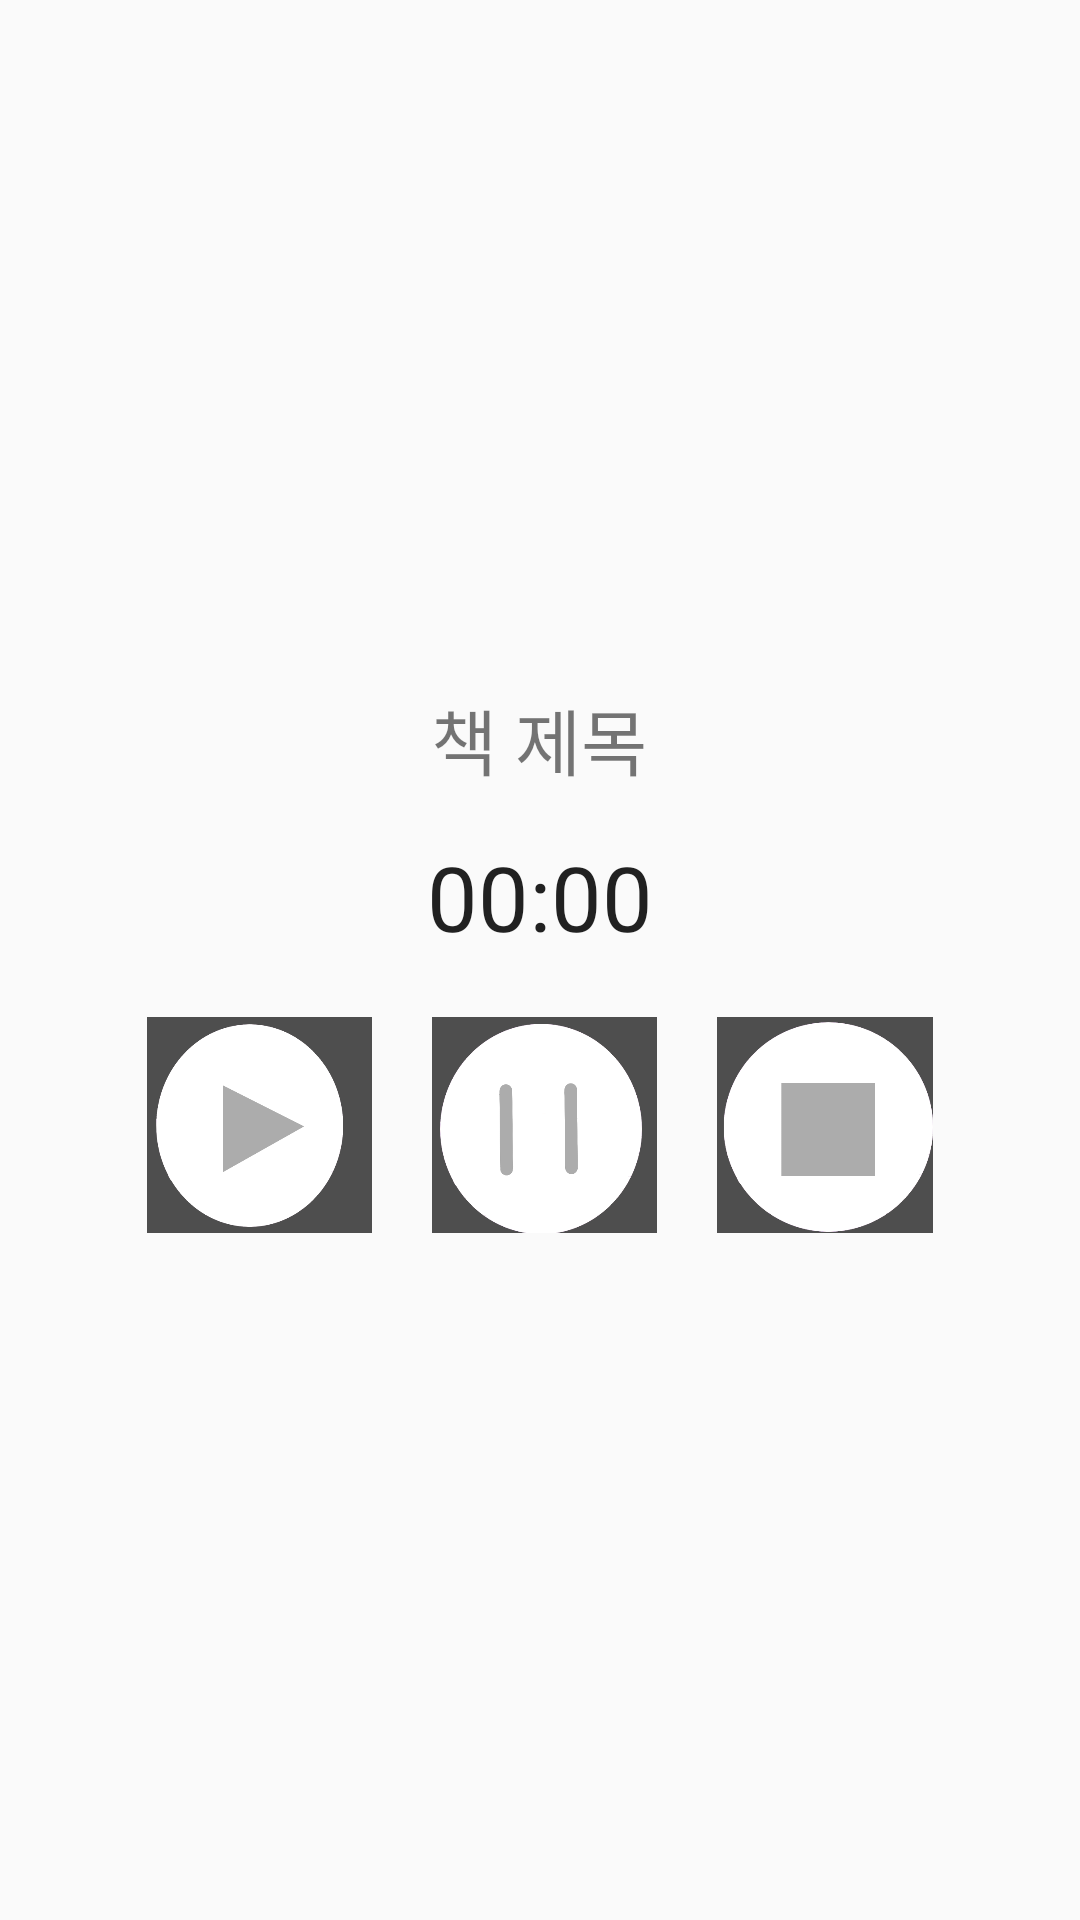

Named icons in this screenshot (1080×1920) and their bounding boxes, (x1, y1, x2, y2):
start: (147, 1017, 372, 1233)
stop: (717, 1017, 933, 1233)
